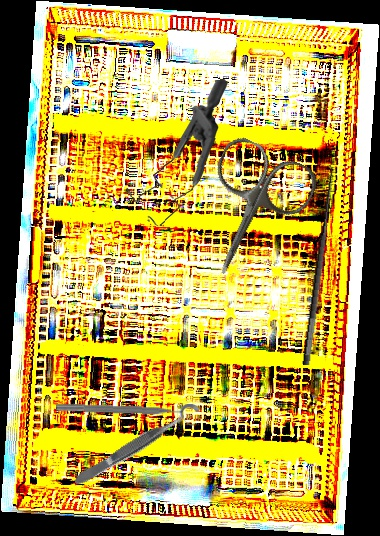Fixation Ring: (55, 399, 200, 428)
Hook Surgical: (286, 163, 341, 366)
Iris Scissors: (176, 132, 323, 294)
Speculum: (123, 79, 233, 227)
Tissue Forceps: (70, 411, 188, 488)
